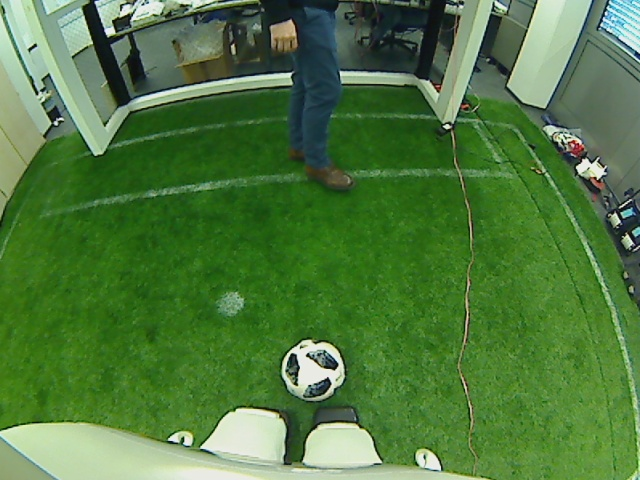ball: (278, 338, 348, 403)
